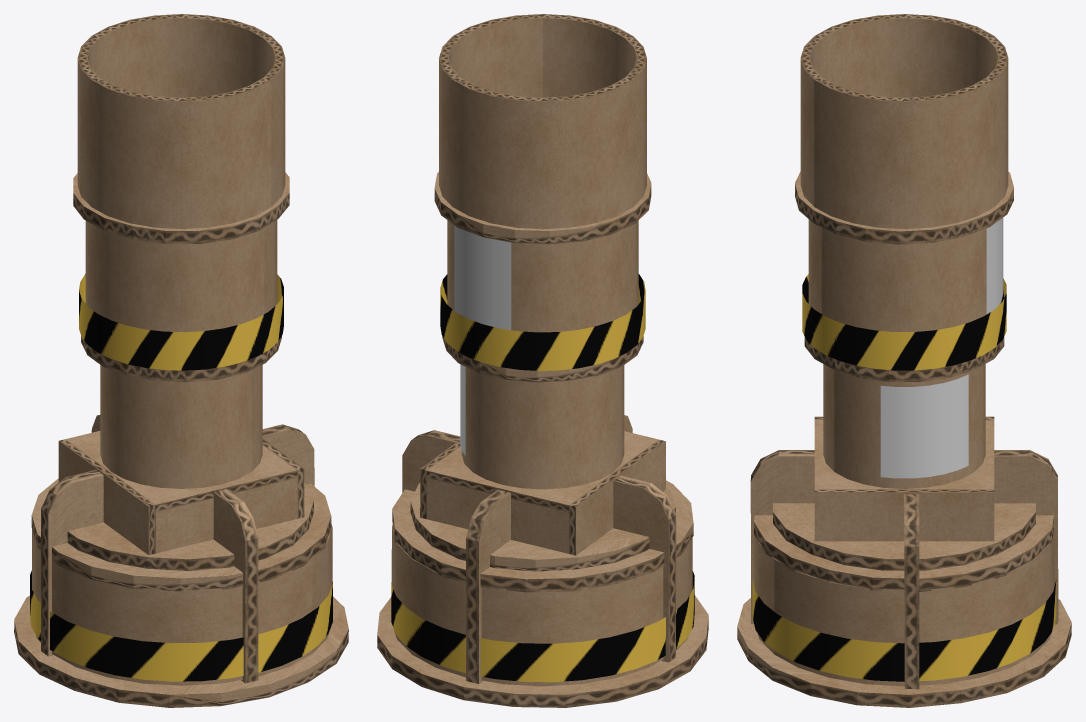
Rendered from HydraulicPress_Cardboard.fbx.
3 views of the same model, side by side, from view 1: azimuth 30°, elevation 25°; view 2: azimuth 150°, elevation 25°; view 3: azimuth 270°, elevation 25° (orthographic).
Parts seen in each view (by area): view 1: cylinder_edges.010; view 2: cylinder_edges.010; view 3: cylinder_edges.010.
Boxes of the visible parts, x1,y1,x2,y2 form: cylinder_edges.010: [14, 14, 348, 707]; cylinder_edges.010: [377, 14, 708, 707]; cylinder_edges.010: [737, 14, 1071, 707].
Bounding box in the file's own units: 204 × 204 × 390.
